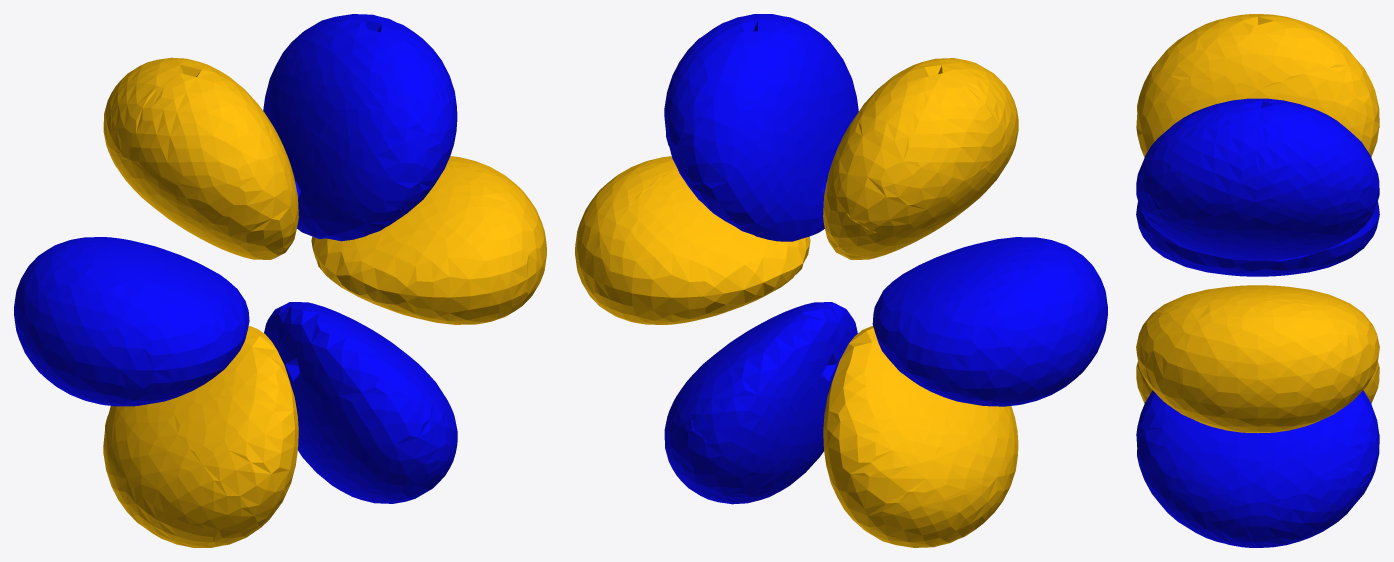
The picture shows the model from 3 angles, left to right: view 1: azimuth 30°, elevation 25°; view 2: azimuth 150°, elevation 25°; view 3: azimuth 270°, elevation 25°; orthographic projection. The views are drawn at different scales.
Size of the model in its own units: 26.32 by 23.64 by 11.98.
